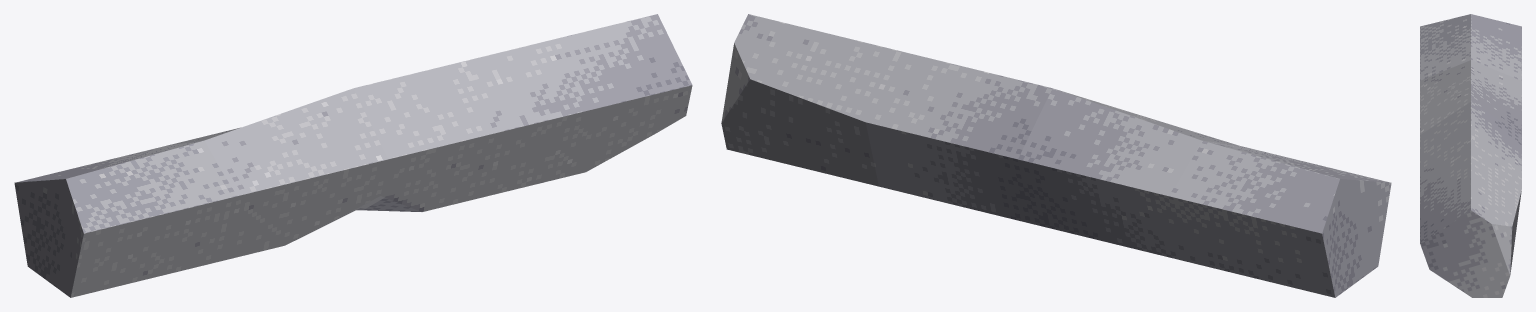
Rendered from Gesso_1.fbx.
3 views of the same model, side by side, from view 1: azimuth 30°, elevation 25°; view 2: azimuth 150°, elevation 25°; view 3: azimuth 270°, elevation 25° (orthographic). The views are drawn at different scales.
Visible parts, largest first — view 1: Cylinder.007; view 2: Cylinder.007; view 3: Cylinder.007.
Part boxes in pixels (x1=…): Cylinder.007: x1=14, y1=14, x2=692, y2=297; Cylinder.007: x1=721, y1=14, x2=1391, y2=297; Cylinder.007: x1=1420, y1=14, x2=1521, y2=297.
Bounding box in the file's own units: 0.0171 × 0.00321 × 0.00338.
Materials: 1 (1 with a texture image).
